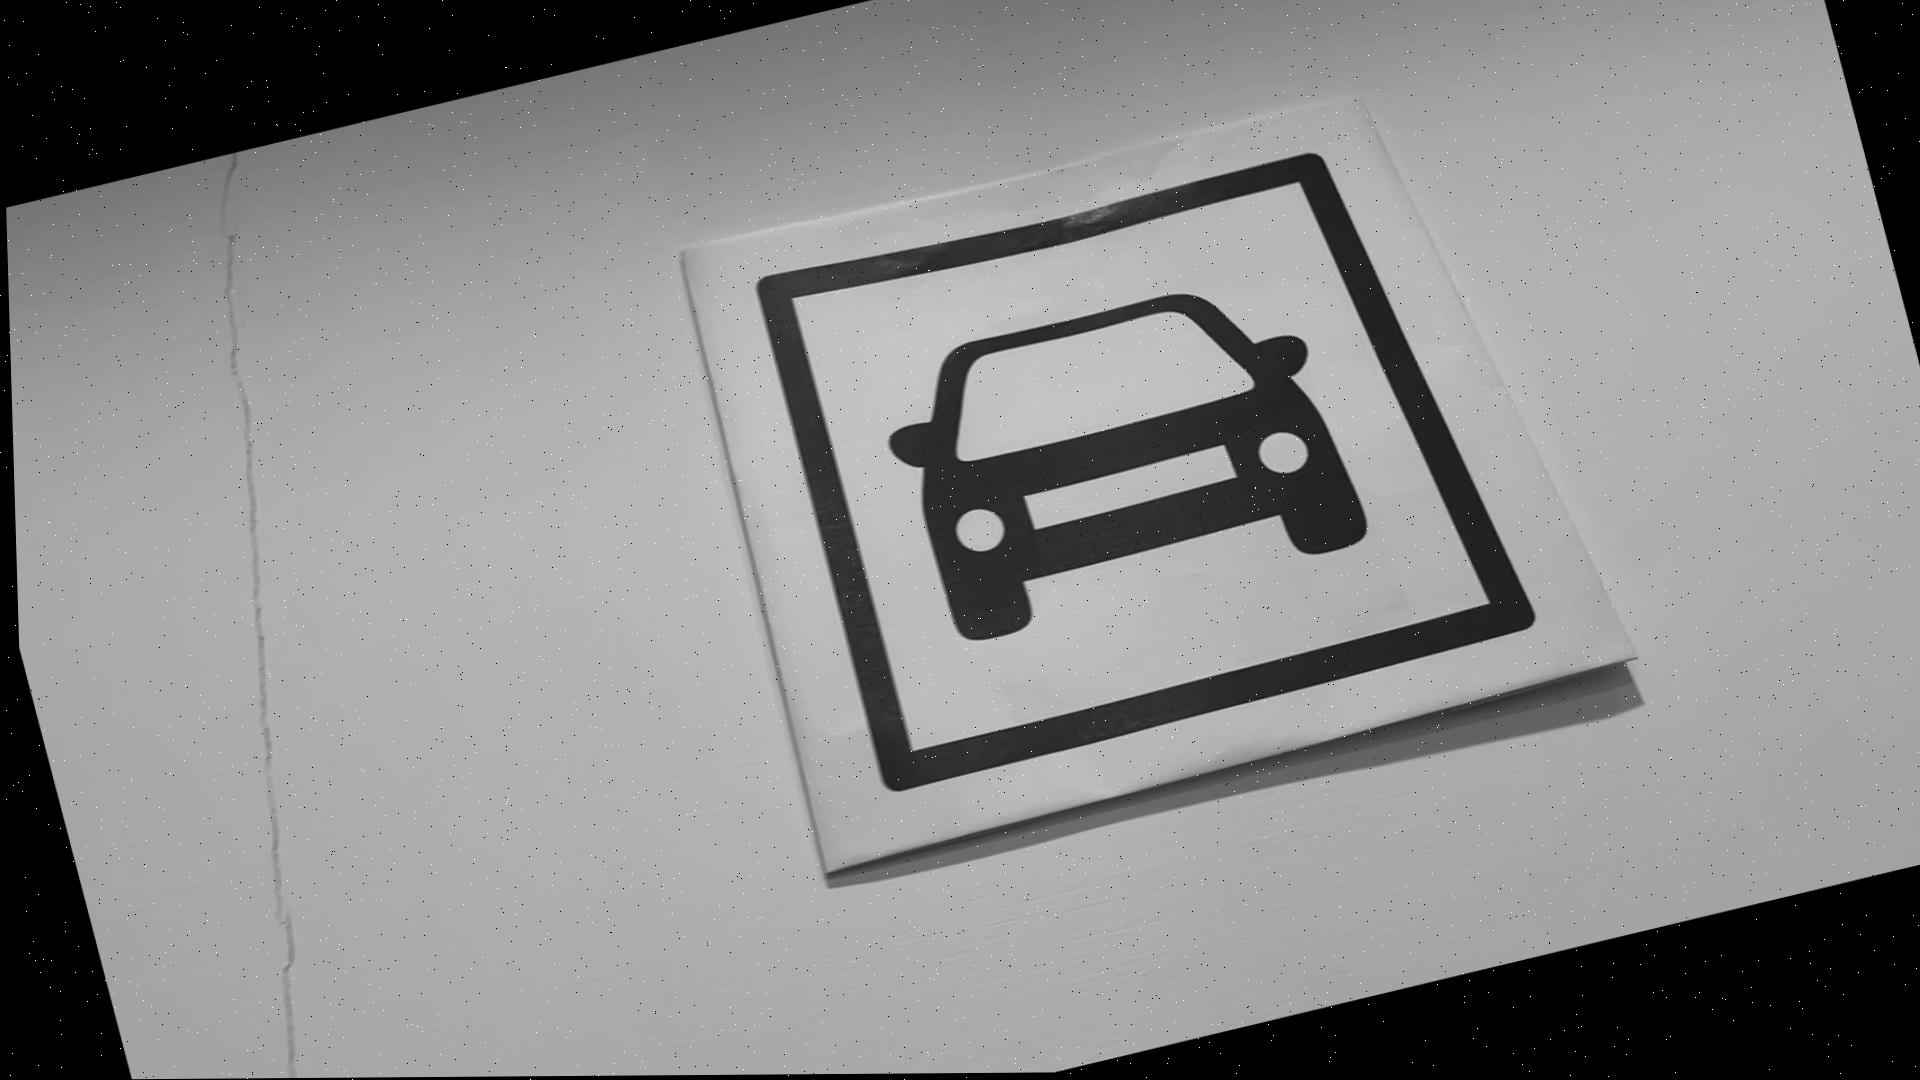car_img: (740, 116, 1544, 798)
